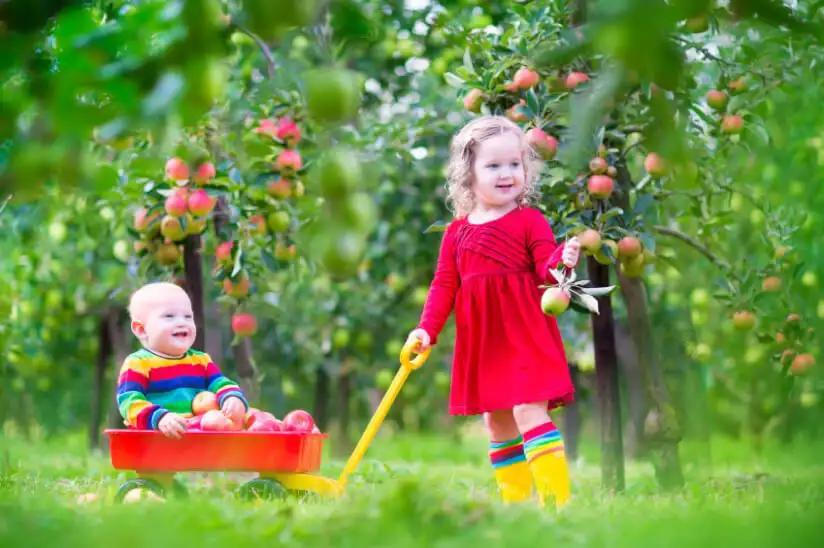child: (414, 114, 594, 517), (104, 274, 268, 444)
